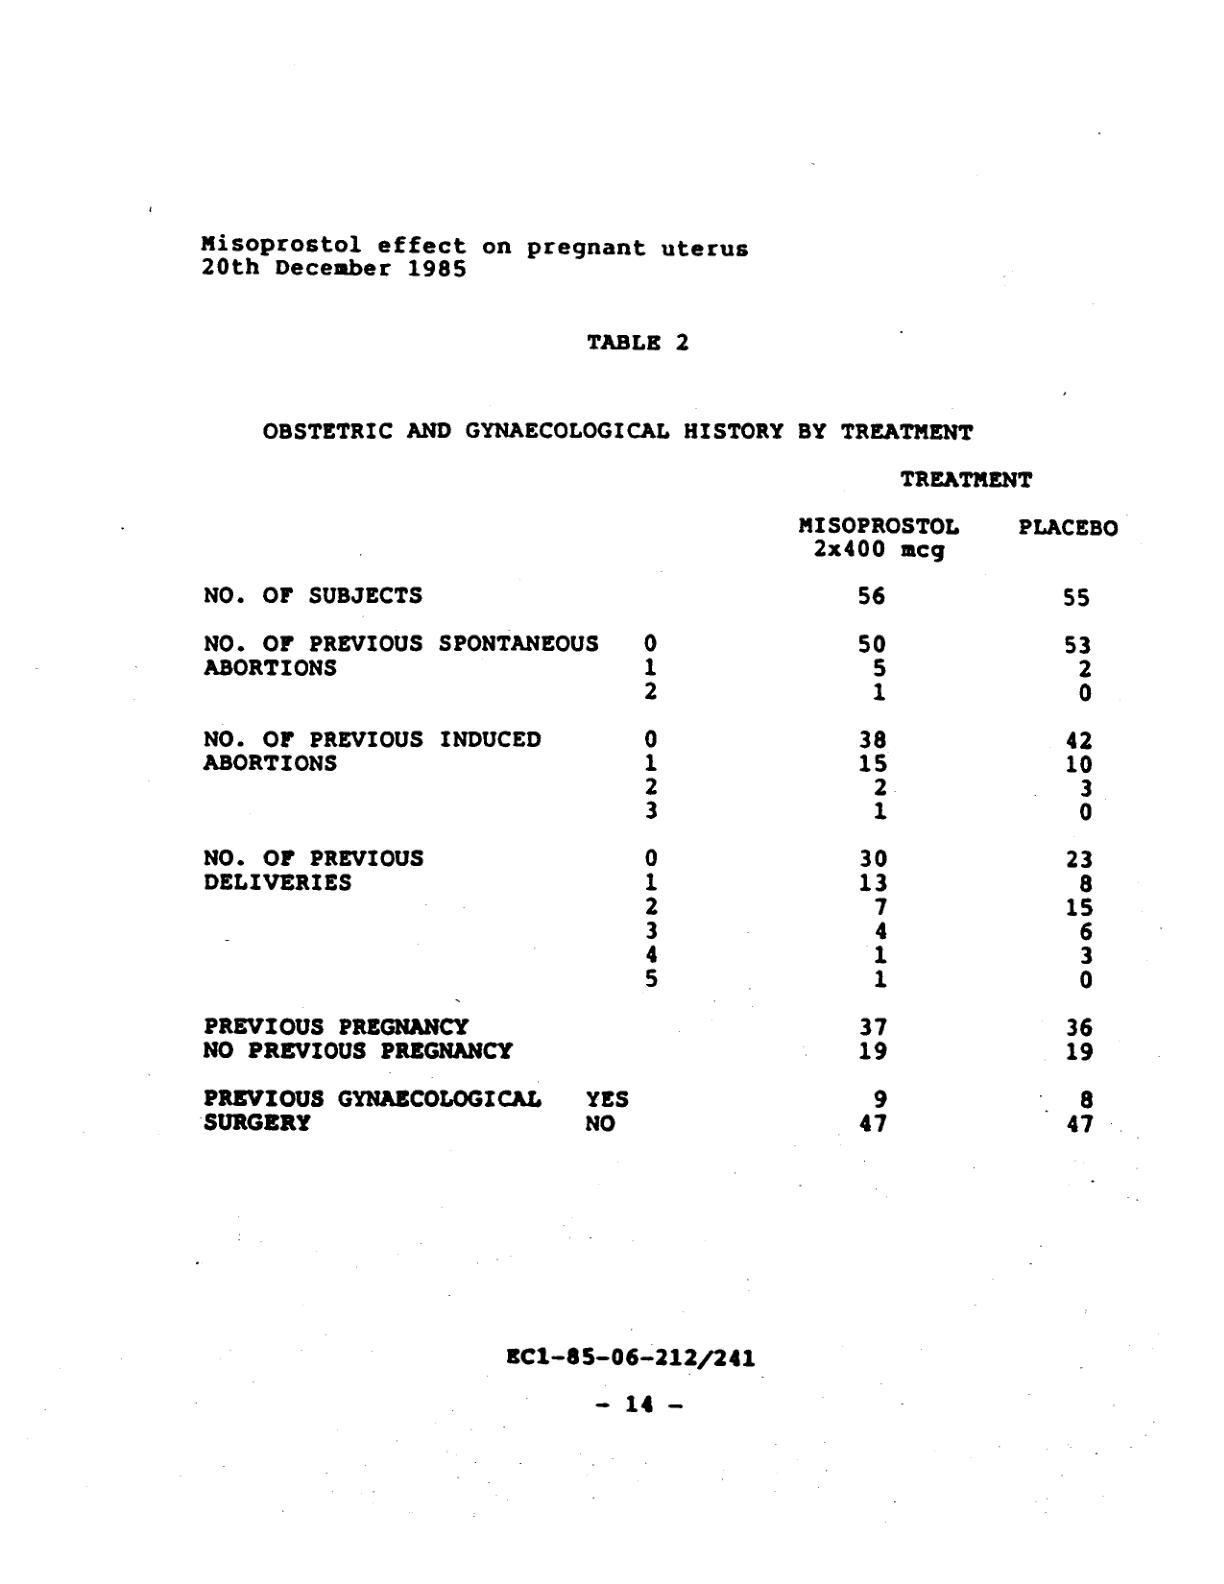nolines: (203, 516, 1121, 1134)
